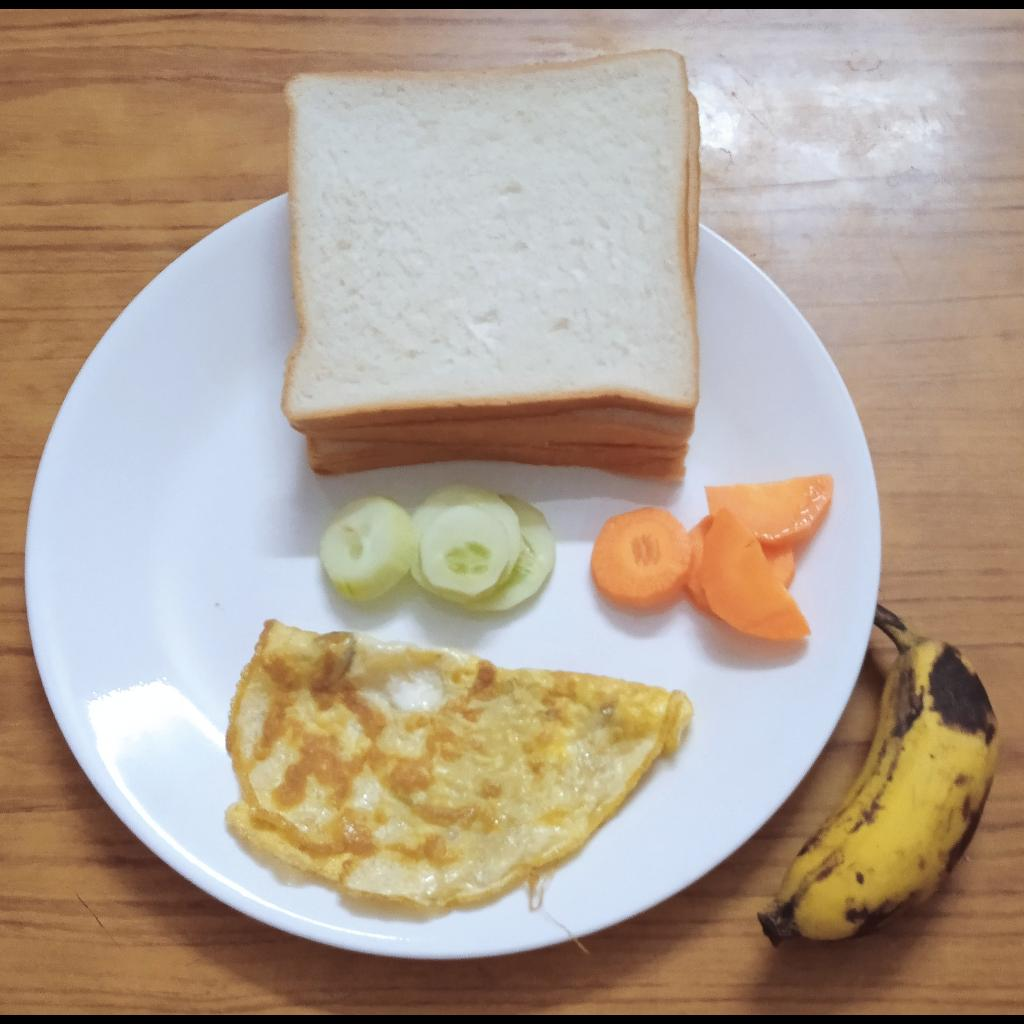banana: (757, 605, 999, 946)
bread: (279, 49, 702, 478)
carrot: (591, 475, 834, 642)
cucumber: (318, 489, 552, 610)
egg-poached: (225, 619, 693, 909)
